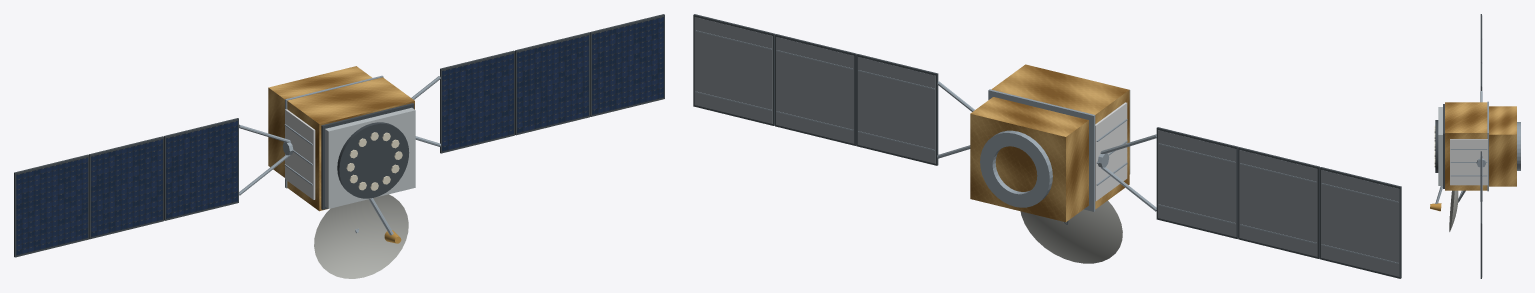
The model's file is ref-gmp-t-49056.glb.
3 renders of one model, left to right at view 1: azimuth 30°, elevation 25°; view 2: azimuth 150°, elevation 25°; view 3: azimuth 270°, elevation 25°, orthographic. The views are drawn at different scales.
Visible parts, largest first — view 1: Solar cell panel (×6), Communications reflector, Payload module, Solar panel frame (×6), Planar antenna aperture, Antenna equipment shelf, Service module, Radiator face, Earth-facing deck; view 2: Rear array substrate (×6), Service module, Solar panel frame (×6), Payload module, Communications reflector, Launch adapter ring, Radiator face, Module interface; view 3: Service module, Payload module, Radiator face, Antenna equipment shelf, Communications reflector, Planar antenna aperture, Launch adapter ring, Earth-facing deck, Solar panel frame, Module interface, Feed horn, Rear array substrate (+1 smaller).
Boxes of the visible parts, x1,y1,x2,y2 form: Solar cell panel (×6): (16, 17, 663, 255); Communications reflector: (314, 194, 408, 278); Payload module: (287, 77, 414, 211); Solar panel frame (×6): (14, 14, 664, 257); Planar antenna aperture: (337, 122, 409, 198); Antenna equipment shelf: (325, 107, 415, 208); Service module: (268, 66, 372, 177); Radiator face: (285, 109, 315, 199); Earth-facing deck: (321, 103, 414, 209); Rear array substrate (×6): (694, 17, 1399, 276); Service module: (970, 97, 1088, 222); Solar panel frame (×6): (693, 14, 1401, 278); Payload module: (991, 64, 1129, 209); Communications reflector: (1020, 200, 1122, 263); Launch adapter ring: (980, 130, 1052, 207); Radiator face: (1095, 102, 1127, 201); Module interface: (988, 89, 1095, 211); Service module: (1489, 106, 1516, 186); Payload module: (1445, 102, 1487, 190); Radiator face: (1450, 139, 1487, 185); Antenna equipment shelf: (1438, 107, 1442, 185); Communications reflector: (1449, 190, 1458, 231); Planar antenna aperture: (1435, 120, 1438, 172); Launch adapter ring: (1517, 122, 1520, 170); Earth-facing deck: (1443, 104, 1444, 188); Solar panel frame: (1480, 199, 1481, 278); Module interface: (1487, 101, 1488, 191); Feed horn: (1430, 203, 1441, 211); Rear array substrate: (1482, 201, 1482, 277).
Size of the model in its own units: 16.98 by 4.2 by 3.12.
Materials: 10 (2 with a texture image).
